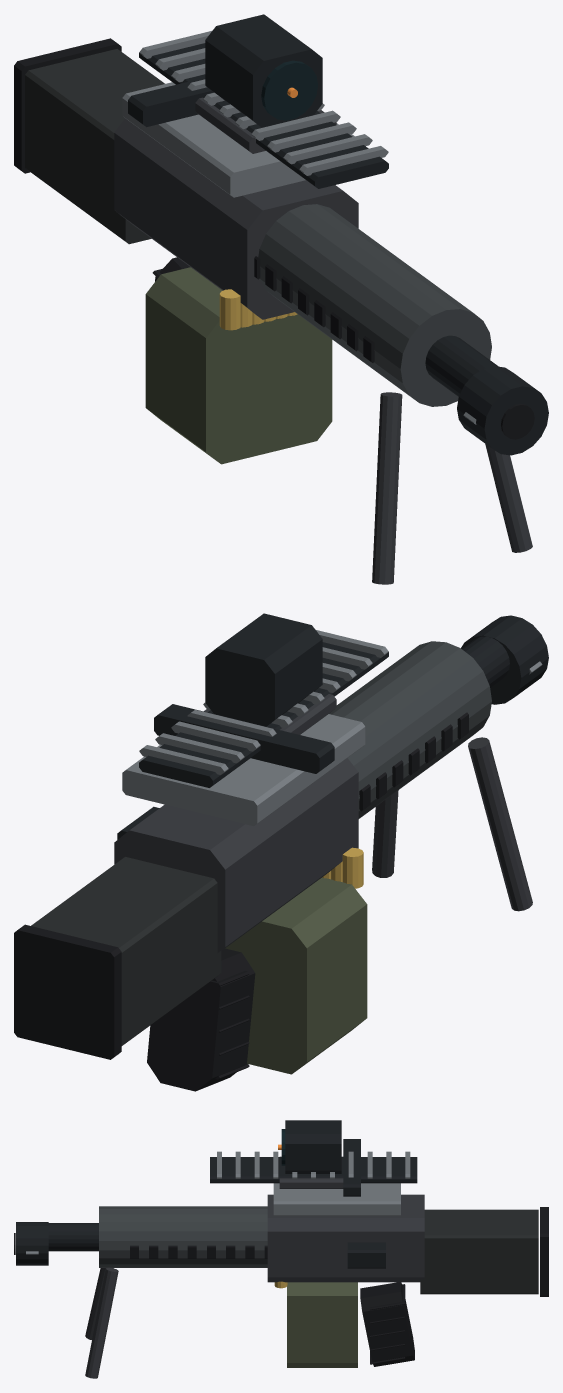
Rendered from 07_Grinder_Light_Machine_Gun.obj.
3 renders of one model, top to bottom at view 1: azimuth 30°, elevation 25°; view 2: azimuth 150°, elevation 25°; view 3: azimuth 270°, elevation 25°, orthographic. The views are drawn at different scales.
Visible parts, largest first — view 1: 025_Belt_Box, 004_Heat_Shroud, 000_Heavy_Receiver, 036_Hollow_Stock, 056_Reflex_Housing, 001_Feed_Cover, 021_Muzzle_Shroud, 060_HeavyBipod_-0.1, 044_Top_Picatinny, 057_FrontLens, 003_Machine_Barrel, 037_Stock_Pad (+10 smaller); view 2: 000_Heavy_Receiver, 025_Belt_Box, 036_Hollow_Stock, 004_Heat_Shroud, 037_Stock_Pad, 056_Reflex_Housing, 038_Angled_Grip, 001_Feed_Cover, 060_HeavyBipod_-0.1, 026_Feed_Handle, 044_Top_Picatinny, 021_Muzzle_Shroud (+9 smaller); view 3: 000_Heavy_Receiver, 036_Hollow_Stock, 004_Heat_Shroud, 025_Belt_Box, 001_Feed_Cover, 038_Angled_Grip, 044_Top_Picatinny, 056_Reflex_Housing, 061_HeavyBipod_0.1, 003_Machine_Barrel, 021_Muzzle_Shroud, 002_Charging_Handle (+4 smaller).
Part boxes in pixels (box(x1,y1,x2,y2)): 025_Belt_Box: box(145, 267, 332, 464); 004_Heat_Shroud: box(258, 204, 491, 406); 000_Heavy_Receiver: box(114, 118, 358, 319); 036_Hollow_Stock: box(25, 49, 164, 244); 056_Reflex_Housing: box(205, 14, 322, 127); 001_Feed_Cover: box(122, 82, 354, 197); 021_Muzzle_Shroud: box(457, 366, 548, 455); 060_HeavyBipod_-0.1: box(372, 392, 402, 584); 044_Top_Picatinny: box(139, 43, 388, 188); 057_FrontLens: box(261, 60, 317, 120); 003_Machine_Barrel: box(425, 335, 498, 396); 037_Stock_Pad: box(14, 38, 121, 173); 000_Heavy_Receiver: box(114, 758, 358, 952); 025_Belt_Box: box(225, 877, 367, 1074); 036_Hollow_Stock: box(31, 857, 221, 1045); 004_Heat_Shroud: box(329, 641, 491, 818); 037_Stock_Pad: box(14, 924, 121, 1059); 056_Reflex_Housing: box(205, 613, 322, 726); 038_Angled_Grip: box(147, 948, 255, 1091); 001_Feed_Cover: box(122, 714, 365, 826); 060_HeavyBipod_-0.1: box(468, 737, 532, 911); 026_Feed_Handle: box(154, 704, 334, 773); 044_Top_Picatinny: box(139, 642, 388, 787); 021_Muzzle_Shroud: box(461, 615, 548, 704); 000_Heavy_Receiver: box(267, 1194, 424, 1282); 036_Hollow_Stock: box(420, 1209, 538, 1294); 004_Heat_Shroud: box(99, 1206, 267, 1267); 025_Belt_Box: box(287, 1282, 357, 1367); 001_Feed_Cover: box(273, 1183, 400, 1215); 038_Angled_Grip: box(360, 1282, 414, 1366); 044_Top_Picatinny: box(210, 1157, 417, 1183); 056_Reflex_Housing: box(285, 1120, 341, 1173); 061_HeavyBipod_0.1: box(85, 1267, 118, 1378); 003_Machine_Barrel: box(48, 1223, 98, 1251); 021_Muzzle_Shroud: box(16, 1222, 48, 1265); 002_Charging_Handle: box(347, 1242, 385, 1268).
Size of the model in its own units: 0.415 by 0.8754 by 1.81.
